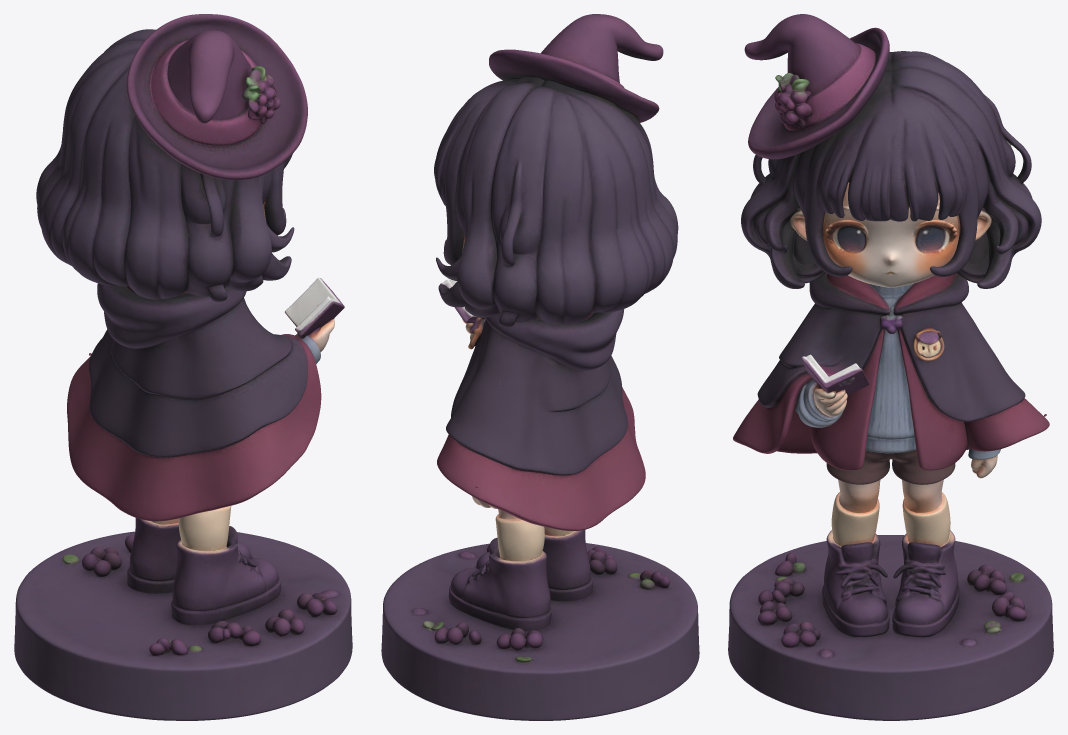
The model's file is inspiration-427.glb.
3 renders of one model, left to right at view 1: azimuth 30°, elevation 25°; view 2: azimuth 150°, elevation 25°; view 3: azimuth 270°, elevation 25°, orthographic. The views are drawn at different scales.
Parts seen in each view (by area): view 1: tripo_node_c27359c3-6b22-419f-98b9-e6f9d61b67a2; view 2: tripo_node_c27359c3-6b22-419f-98b9-e6f9d61b67a2; view 3: tripo_node_c27359c3-6b22-419f-98b9-e6f9d61b67a2.
Boxes of the visible parts, x1,y1,x2,y2 form: tripo_node_c27359c3-6b22-419f-98b9-e6f9d61b67a2: (14, 14, 352, 720); tripo_node_c27359c3-6b22-419f-98b9-e6f9d61b67a2: (381, 14, 699, 720); tripo_node_c27359c3-6b22-419f-98b9-e6f9d61b67a2: (728, 14, 1053, 720).
Bounding box in the file's own units: 0.4715 × 1 × 0.4698.
Materials: 1 (1 with a texture image).
